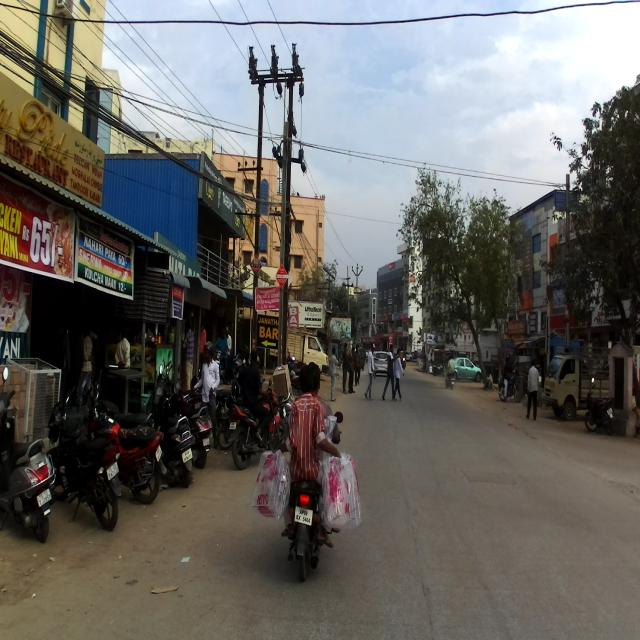motorcycle ahead at: (52, 404, 120, 532), (0, 386, 53, 549), (279, 462, 335, 588)
